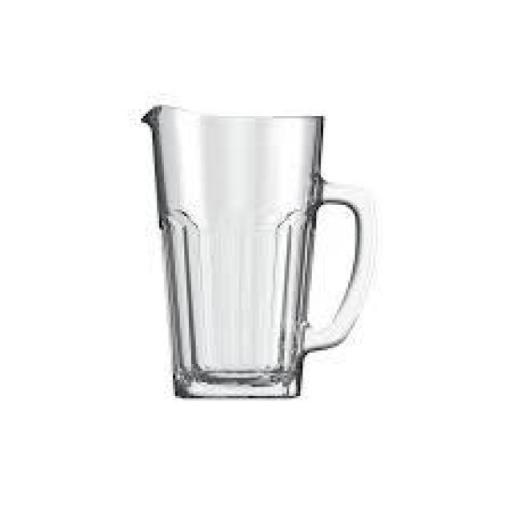glass: (114, 83, 386, 424)
